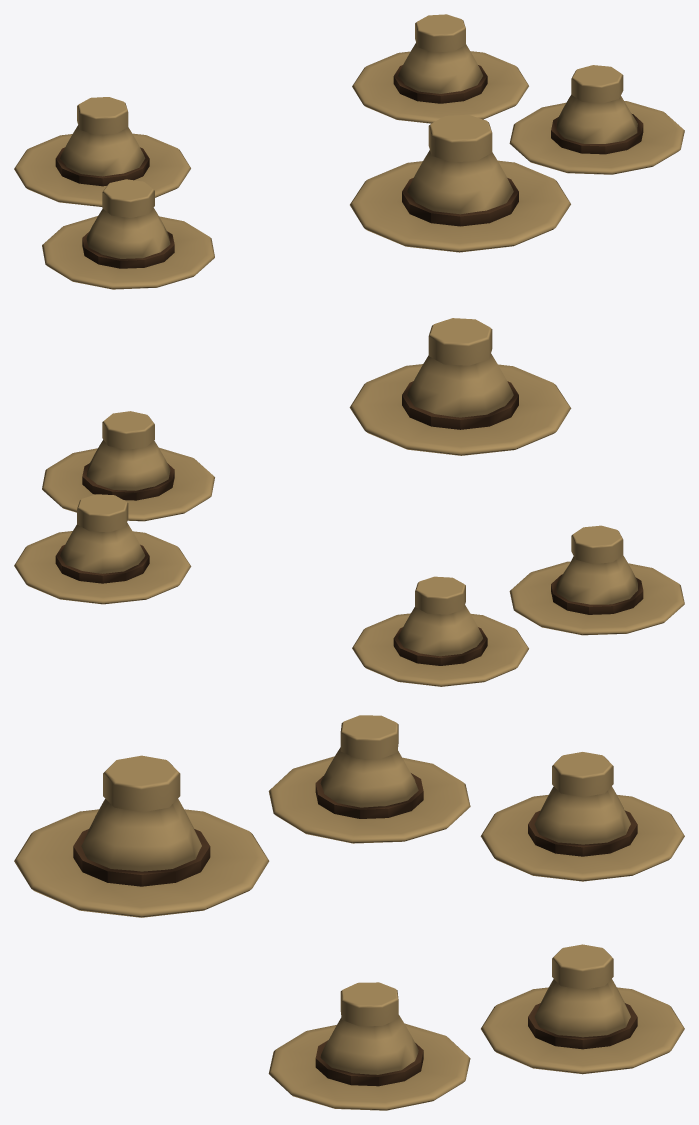
Rendered from steam-rangers-lod1.glb.
3 renders of one model, top to bottom at view 1: azimuth 30°, elevation 25°; view 2: azimuth 150°, elevation 25°; view 3: azimuth 270°, elevation 25°, orthographic. The views are drawn at different scales.
Visible parts, largest first — view 1: cap_hat, att2_hat, att3_hat, att0_hat, att1_hat; view 2: cap_hat, att0_hat, att3_hat, att1_hat, att2_hat; view 3: cap_hat, att0_hat, att1_hat, att2_hat, att3_hat.
Boxes of the visible parts, x1,y1,x2,y2 form: cap_hat: [350, 114, 570, 252]; att2_hat: [509, 65, 684, 174]; att3_hat: [42, 179, 214, 289]; att0_hat: [352, 14, 528, 123]; att1_hat: [14, 97, 190, 206]; cap_hat: [349, 318, 571, 455]; att0_hat: [14, 494, 191, 604]; att3_hat: [509, 525, 684, 635]; att1_hat: [352, 576, 528, 686]; att2_hat: [42, 411, 214, 521]; cap_hat: [14, 755, 269, 917]; att0_hat: [481, 944, 684, 1074]; att1_hat: [480, 752, 684, 881]; att2_hat: [268, 982, 470, 1110]; att3_hat: [268, 715, 470, 843].
Bounding box in the file's own units: 2.28 × 0.4943 × 1.83.
